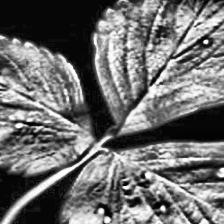Leaf Spot: (91, 0, 224, 137), (0, 32, 96, 176), (61, 140, 224, 224)
